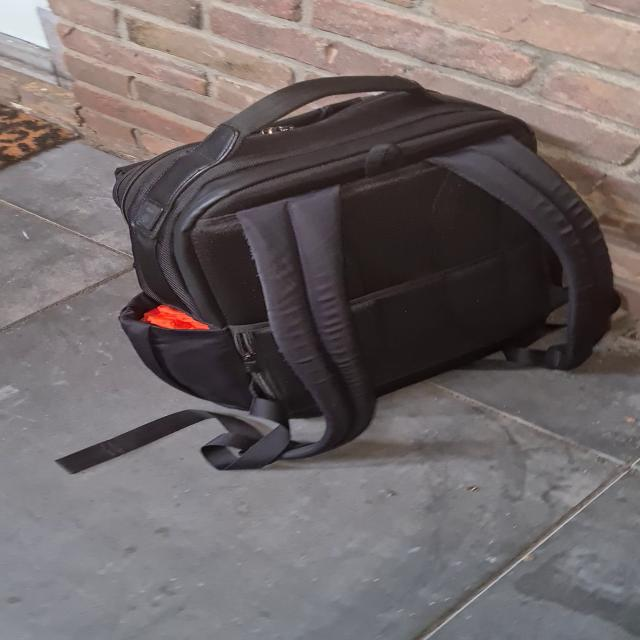backpack: (93, 61, 627, 471)
